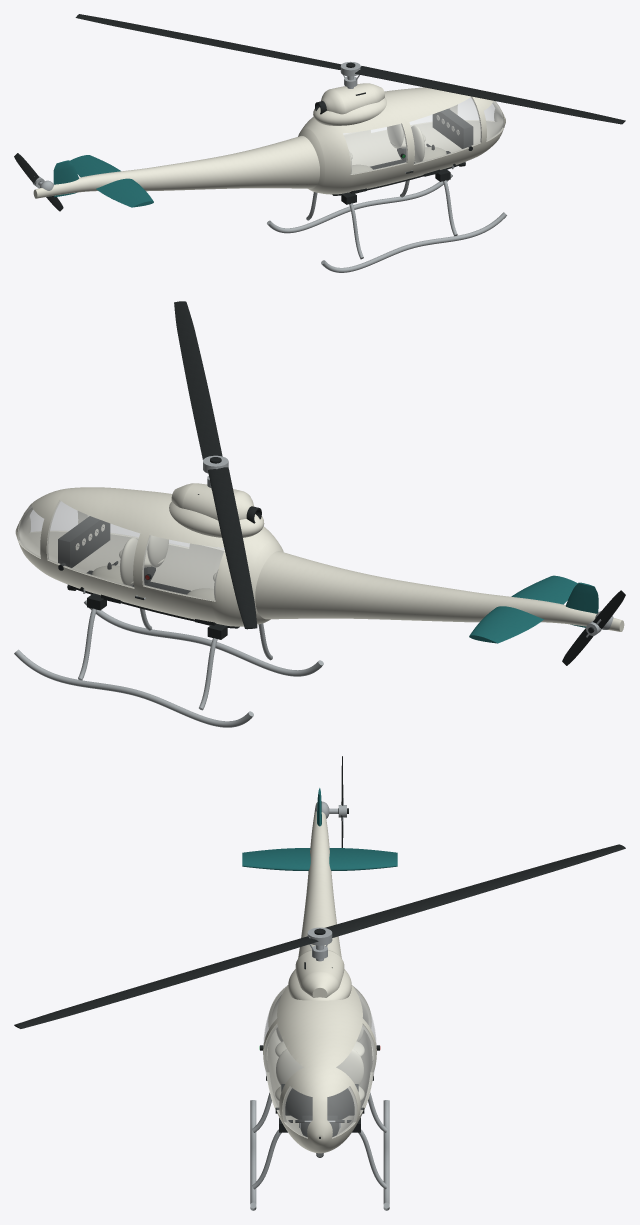
File: vehicle_helicopter_cc0.glb
3 views of the same model, one above another, from view 1: azimuth 30°, elevation 25°; view 2: azimuth 150°, elevation 25°; view 3: azimuth 270°, elevation 25° (orthographic). The views are drawn at different scales.
Visible parts, largest first — view 1: Hollow cabin shell with actual window openings, Tapered closed tail boom, Fitted finite cabin glazing 2 side -1, Fitted finite cabin glazing 1 side -1, Main rotor finite twisted airfoil blade 2, Main rotor finite twisted airfoil blade 1, Through boom horizontal stabilizer, Closed engine pod 0, Curved landing skid -1, Curved landing skid 1, Finite instrument panel, Seated upper transmission fairing (+4 smaller); view 2: Hollow cabin shell with actual window openings, Tapered closed tail boom, Fitted finite cabin glazing 2 side 1, Fitted finite cabin glazing 1 side 1, Main rotor finite twisted airfoil blade 1, Main rotor finite twisted airfoil blade 2, Through boom horizontal stabilizer, Curved landing skid 1, Curved landing skid -1, Finite instrument panel, Closed engine pod 0, Seated upper transmission fairing (+5 smaller); view 3: Hollow cabin shell with actual window openings, Main rotor finite twisted airfoil blade 1, Tapered closed tail boom, Main rotor finite twisted airfoil blade 2, Through boom horizontal stabilizer, Closed engine pod 0, Fitted finite cabin glazing 2 side -1, Fitted finite cabin glazing 2 side 1, Finite instrument panel, Fitted finite cabin glazing 3 side 1, Fitted finite cabin glazing 3 side -1, Seated upper transmission fairing (+3 smaller).
Part boxes in pixels (bbox=[...]): Hollow cabin shell with actual window openings: bbox=[298, 87, 505, 194]; Tapered closed tail boom: bbox=[33, 136, 319, 198]; Fitted finite cabin glazing 2 side -1: bbox=[409, 97, 481, 164]; Fitted finite cabin glazing 1 side -1: bbox=[343, 123, 407, 174]; Main rotor finite twisted airfoil blade 2: bbox=[355, 66, 625, 124]; Main rotor finite twisted airfoil blade 1: bbox=[75, 14, 341, 69]; Through boom horizontal stabilizer: bbox=[70, 155, 153, 207]; Closed engine pod 0: bbox=[321, 83, 384, 114]; Curved landing skid -1: bbox=[321, 212, 506, 272]; Curved landing skid 1: bbox=[267, 174, 452, 233]; Finite instrument panel: bbox=[432, 108, 473, 148]; Seated upper transmission fairing: bbox=[313, 97, 386, 125]; Hollow cabin shell with actual window openings: bbox=[15, 487, 283, 626]; Tapered closed tail boom: bbox=[255, 551, 624, 631]; Fitted finite cabin glazing 2 side 1: bbox=[47, 500, 139, 587]; Fitted finite cabin glazing 1 side 1: bbox=[143, 535, 224, 601]; Main rotor finite twisted airfoil blade 1: bbox=[208, 467, 257, 629]; Main rotor finite twisted airfoil blade 2: bbox=[174, 301, 222, 459]; Through boom horizontal stabilizer: bbox=[469, 575, 577, 643]; Curved landing skid 1: bbox=[14, 649, 253, 727]; Curved landing skid -1: bbox=[84, 600, 323, 676]; Finite instrument panel: bbox=[58, 516, 110, 567]; Closed engine pod 0: bbox=[171, 483, 253, 520]; Seated upper transmission fairing: bbox=[169, 502, 264, 537]; Hollow cabin shell with actual window openings: bbox=[263, 985, 376, 1153]; Main rotor finite twisted airfoil blade 1: bbox=[325, 844, 625, 937]; Tapered closed tail boom: bbox=[298, 802, 341, 958]; Main rotor finite twisted airfoil blade 2: bbox=[14, 936, 318, 1028]; Through boom horizontal stabilizer: bbox=[242, 848, 397, 870]; Closed engine pod 0: bbox=[295, 950, 344, 997]; Fitted finite cabin glazing 2 side -1: bbox=[264, 1024, 303, 1113]; Fitted finite cabin glazing 2 side 1: bbox=[336, 1024, 375, 1113]; Finite instrument panel: bbox=[281, 1084, 358, 1115]; Fitted finite cabin glazing 3 side 1: bbox=[327, 1087, 356, 1137]; Fitted finite cabin glazing 3 side -1: bbox=[283, 1087, 312, 1137]; Seated upper transmission fairing: bbox=[288, 969, 351, 1000].
Size of the model in its own units: 9.24 by 3.31 by 8.26.
Materials: 11 (11 with a texture image).
